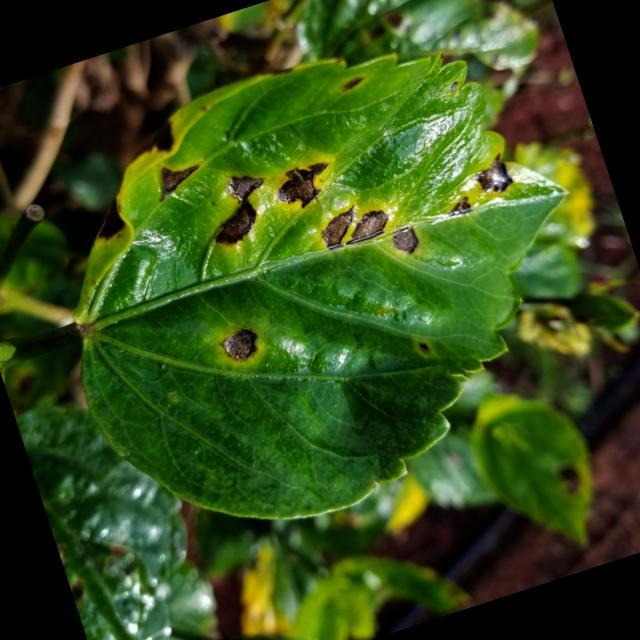Tomato bacterial spot leaf: (6, 0, 640, 580)
